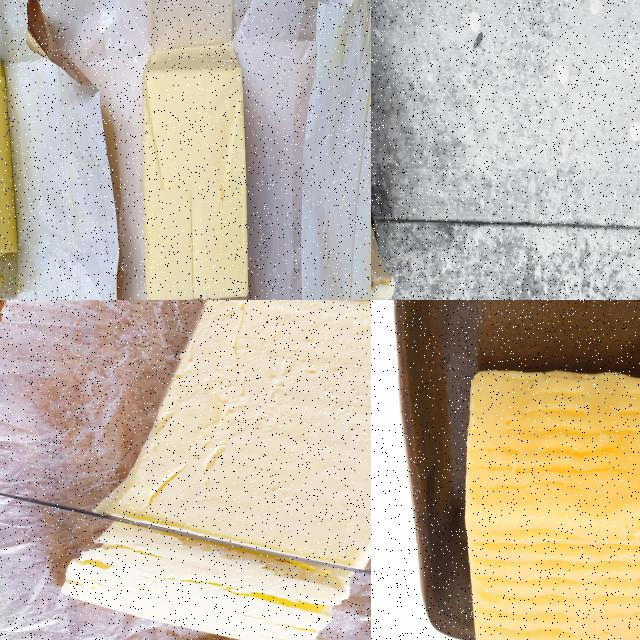butter: (86, 300, 370, 573), (464, 363, 639, 639), (59, 521, 349, 639), (138, 38, 252, 299)
